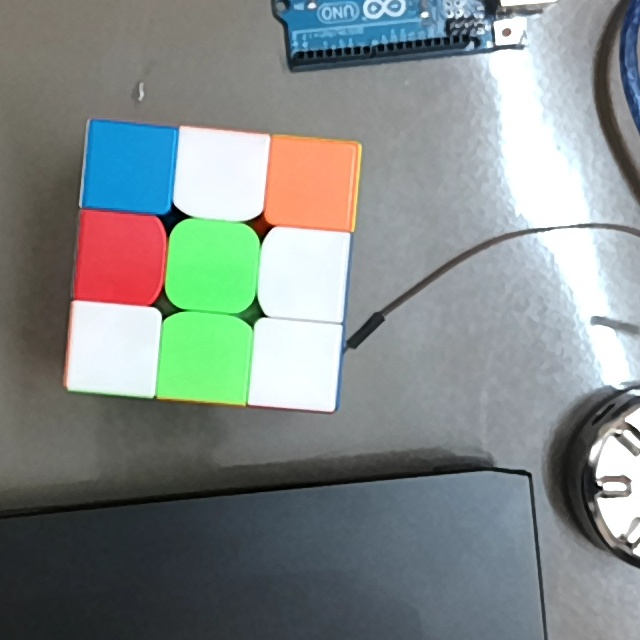tile: (76, 311, 152, 387), (276, 145, 350, 221), (182, 138, 258, 211), (82, 219, 154, 295), (93, 131, 166, 204), (259, 328, 331, 402), (272, 238, 341, 315), (176, 230, 248, 303), (169, 323, 243, 393)
